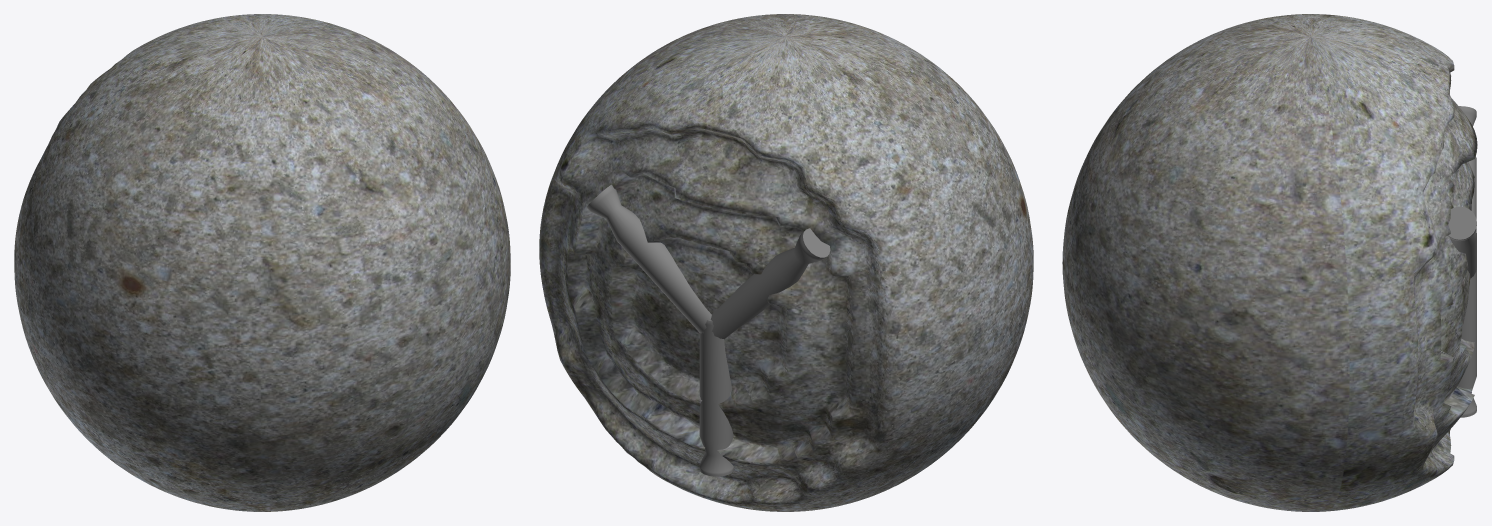
The model's file is Kugla2.fbx.
3 renders of one model, left to right at view 1: azimuth 30°, elevation 25°; view 2: azimuth 150°, elevation 25°; view 3: azimuth 270°, elevation 25°, orthographic.
Parts seen in each view (by area): view 1: polySurface5; view 2: polySurface5; view 3: polySurface5.
Boxes of the visible parts, box(x1,y1,x2,y2) form: polySurface5: box(14, 14, 510, 511); polySurface5: box(539, 14, 1033, 511); polySurface5: box(1062, 14, 1477, 511).
Bounding box in the file's own units: 16.64 × 16.7 × 13.9.
2 materials, 1 textured.
